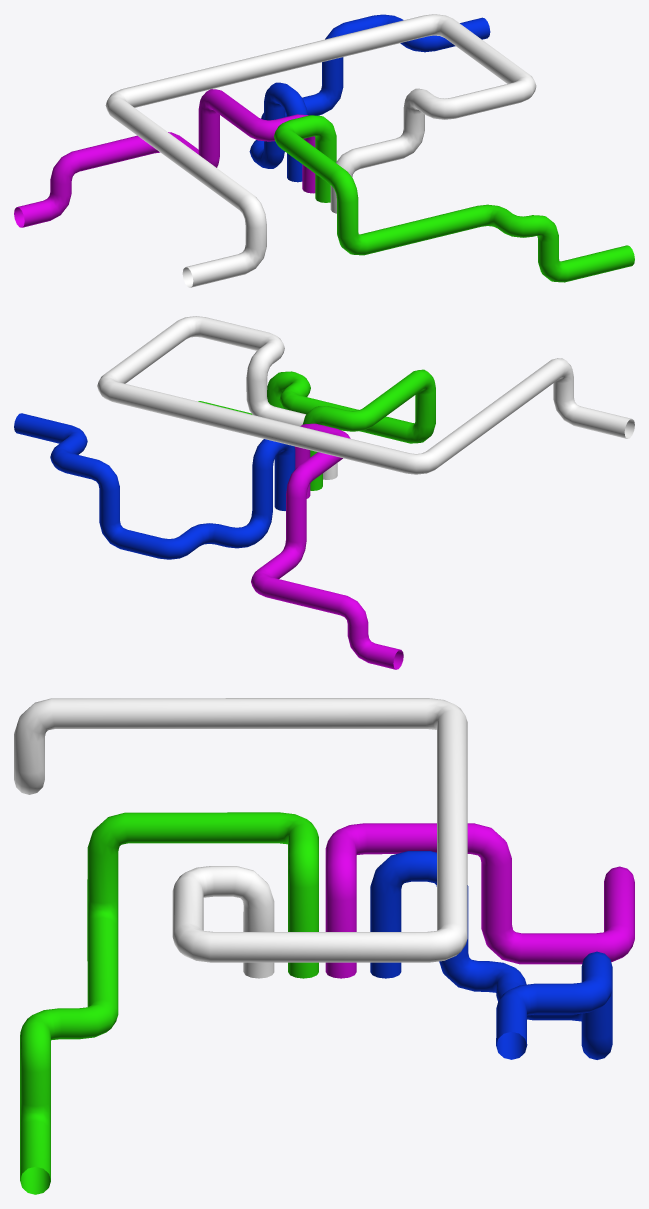
Rendered from SM_ValveRoom_Pipes.fbx.
The picture shows the model from 3 angles, top to bottom: view 1: azimuth 30°, elevation 25°; view 2: azimuth 150°, elevation 25°; view 3: azimuth 270°, elevation 25°; orthographic projection. The views are drawn at different scales.
Visible parts, largest first — view 1: SM_ValveRoom_Pipes; view 2: SM_ValveRoom_Pipes; view 3: SM_ValveRoom_Pipes.
Boxes of the visible parts, x1,y1,x2,y2 form: SM_ValveRoom_Pipes: (14,14,634,287); SM_ValveRoom_Pipes: (14,316,634,669); SM_ValveRoom_Pipes: (14,698,634,1194).
Size of the model in its own units: 2148 by 745 by 1721.
